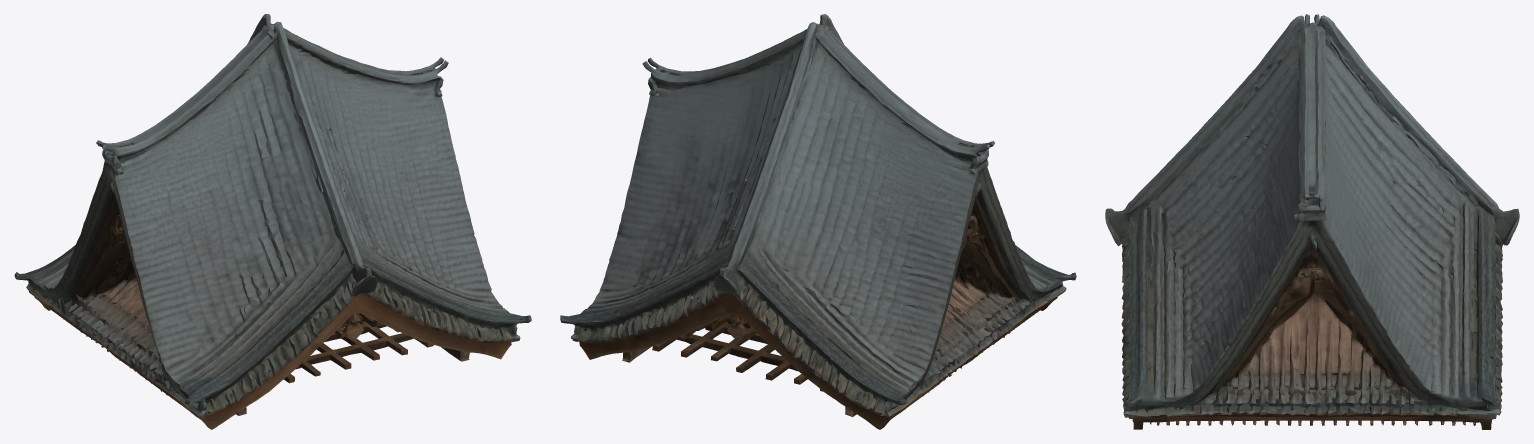
The model's file is ARCH-012.glb.
3 views of the same model, side by side, from view 1: azimuth 30°, elevation 25°; view 2: azimuth 150°, elevation 25°; view 3: azimuth 270°, elevation 25° (orthographic). The views are drawn at different scales.
Visible parts, largest first — view 1: world; view 2: world; view 3: world.
Part boxes in pixels (left/top/right/bottom): world: left=14, top=14, right=531, bottom=429; world: left=560, top=14, right=1076, bottom=429; world: left=1105, top=14, right=1519, bottom=429.
Size of the model in its own units: 0.45 by 0.3947 by 0.4352.
Materials: 1 (1 with a texture image).
